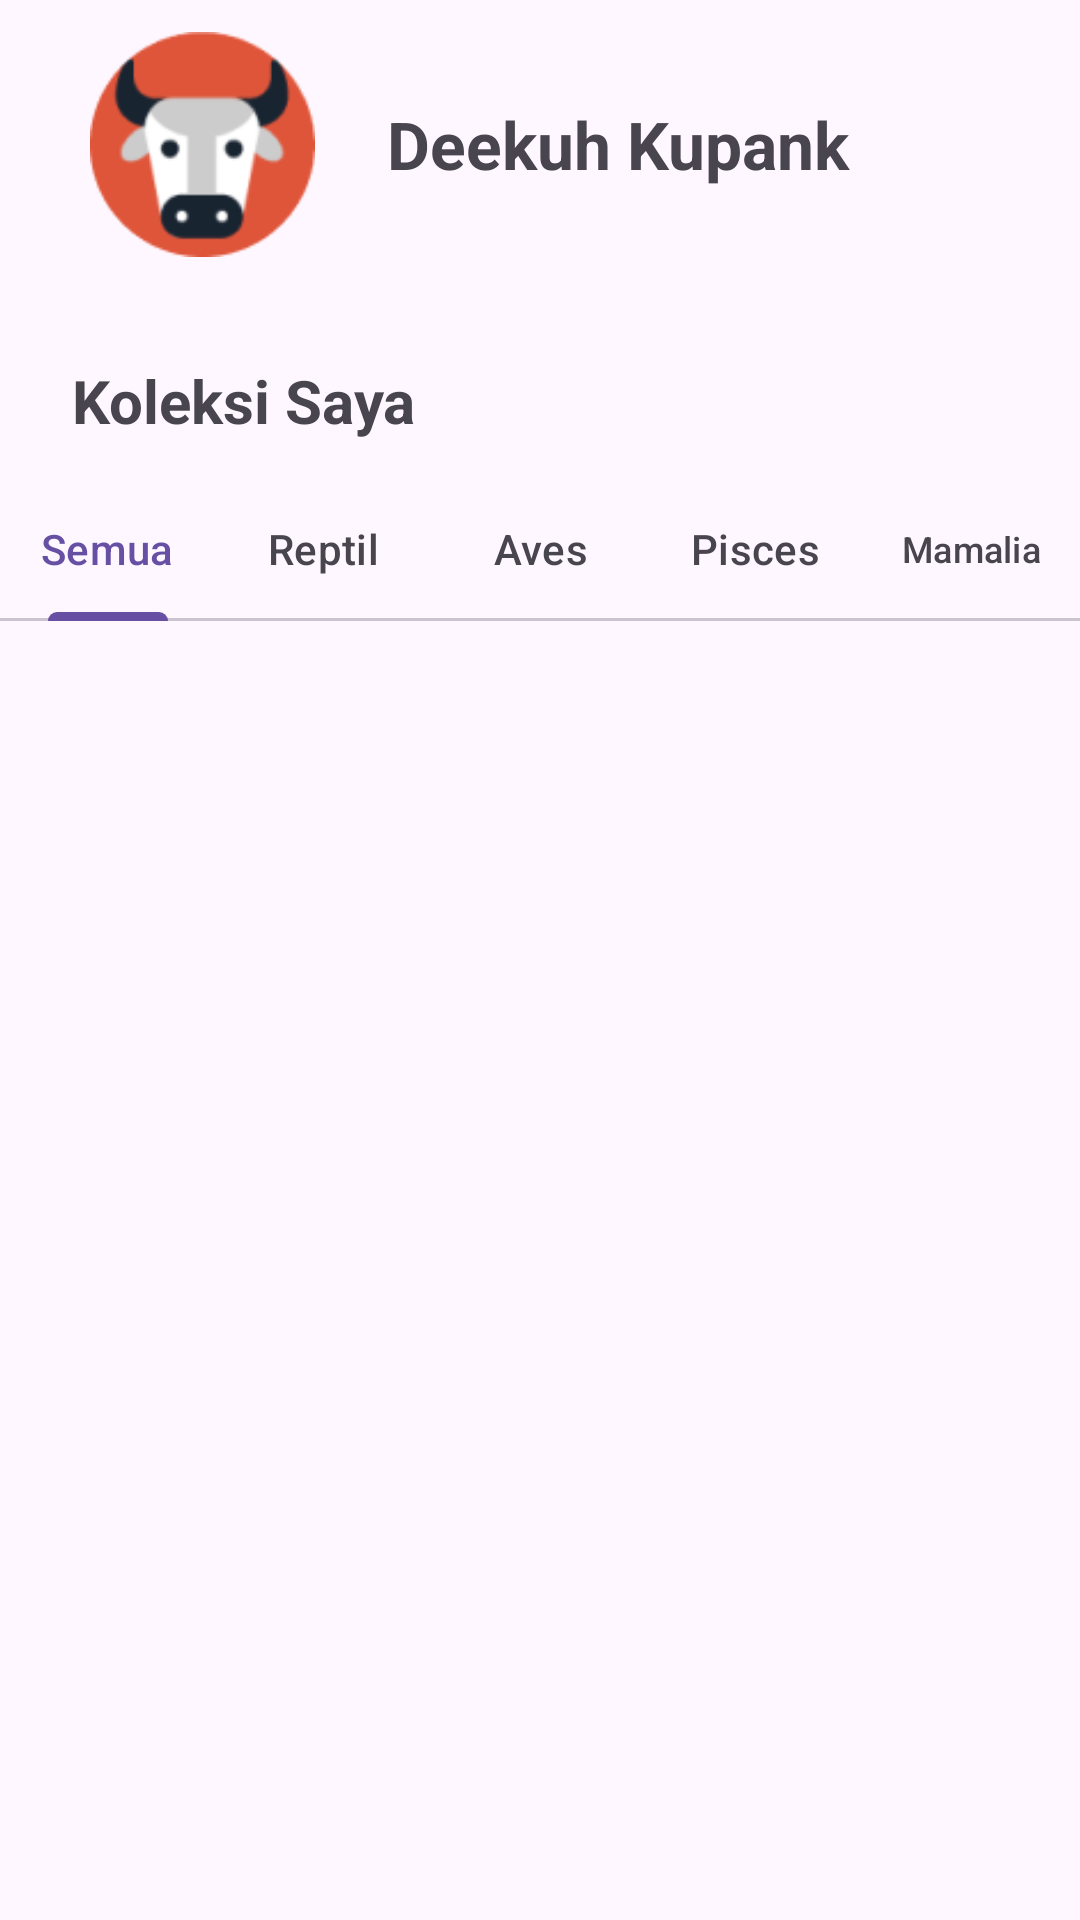

Named icons in this screenshot (1080*1920) and their bounding boxes, box=[x1, y1, x2, y2]:
iconprofile: box=[90, 32, 315, 257]
